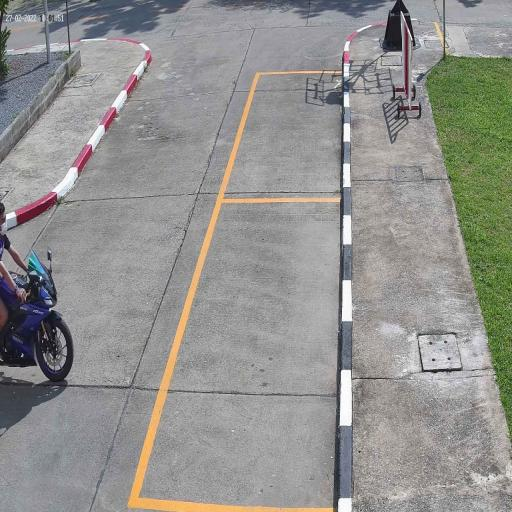motorcycle: (0, 270, 75, 384)
